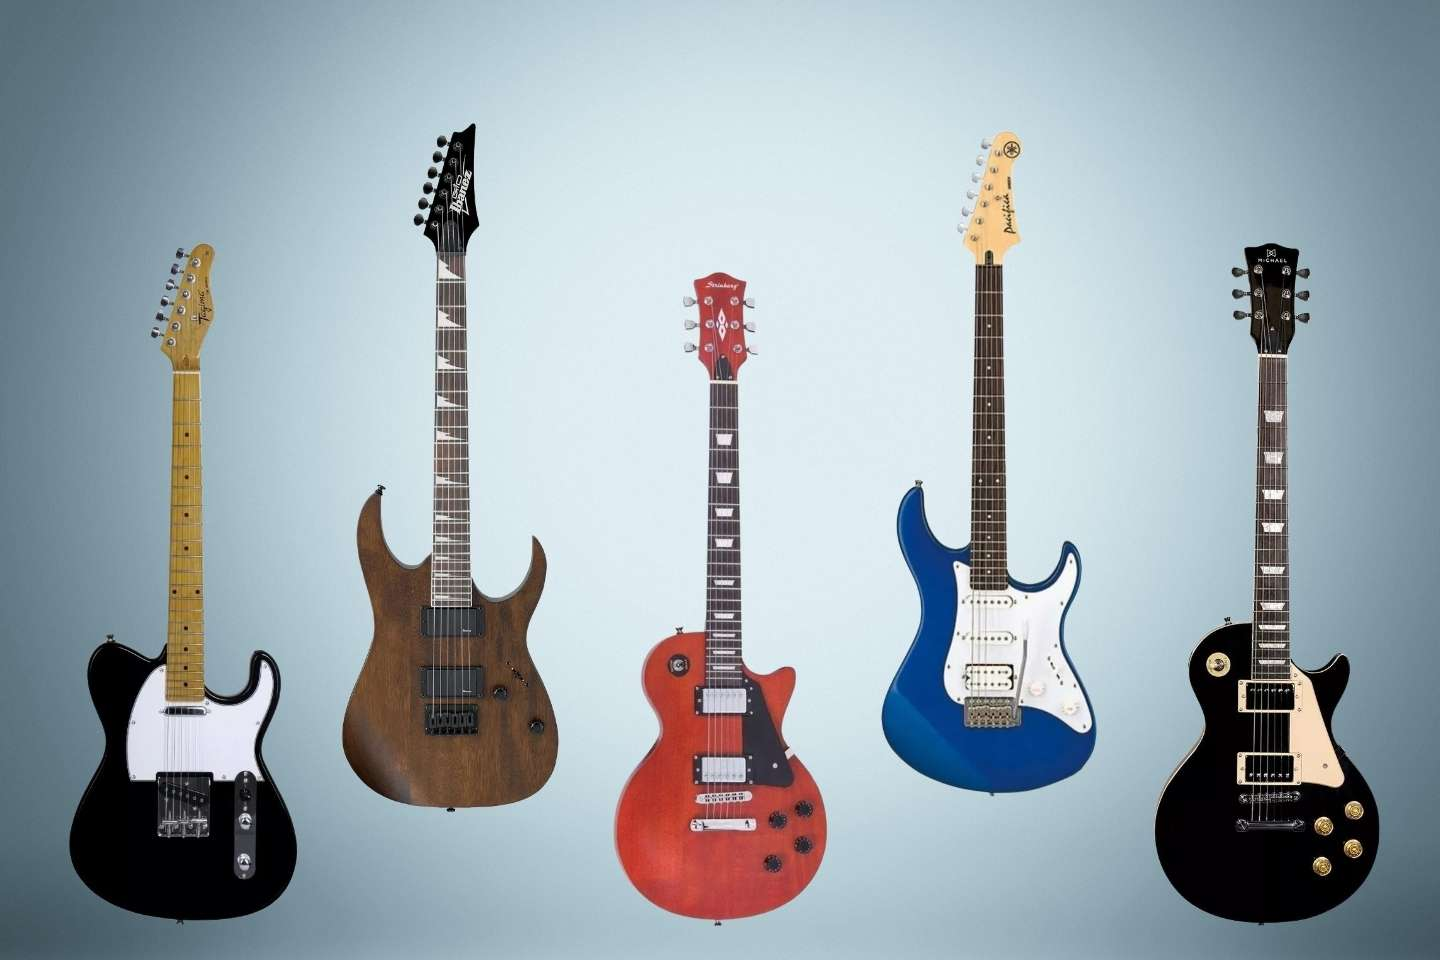guitar: (66, 238, 300, 925), (1152, 239, 1382, 926), (341, 125, 559, 812), (881, 132, 1096, 796), (613, 271, 829, 922)
